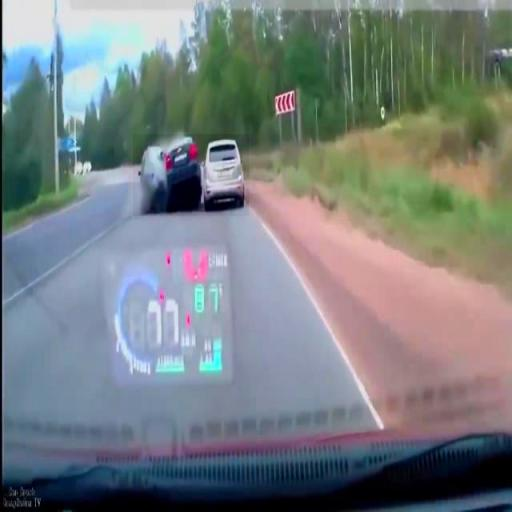小汽车撞小汽车: (133, 134, 249, 216)
